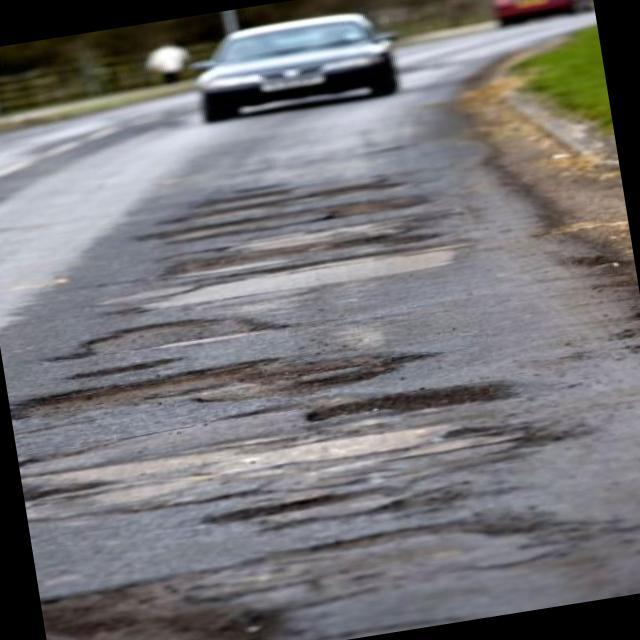Pothole: (46, 521, 561, 640), (15, 352, 434, 419), (280, 382, 511, 429), (58, 317, 284, 358), (203, 488, 418, 525), (309, 424, 480, 462)
